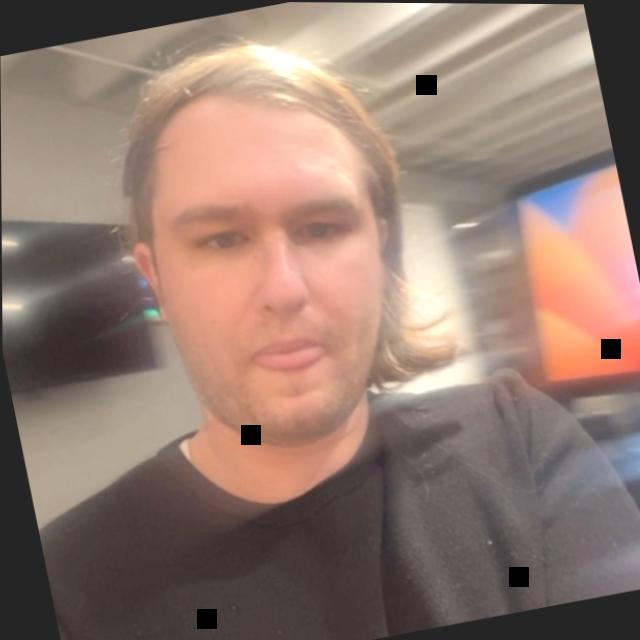NO-Mask: (83, 0, 477, 534)
